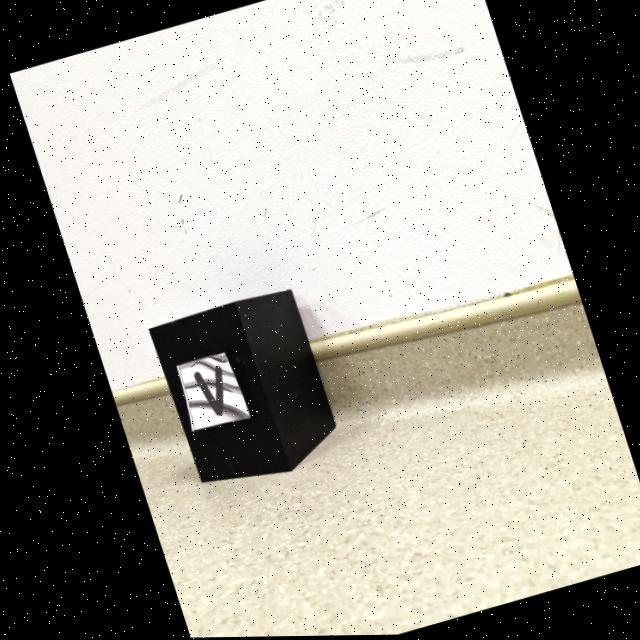V: (190, 366, 219, 416)
